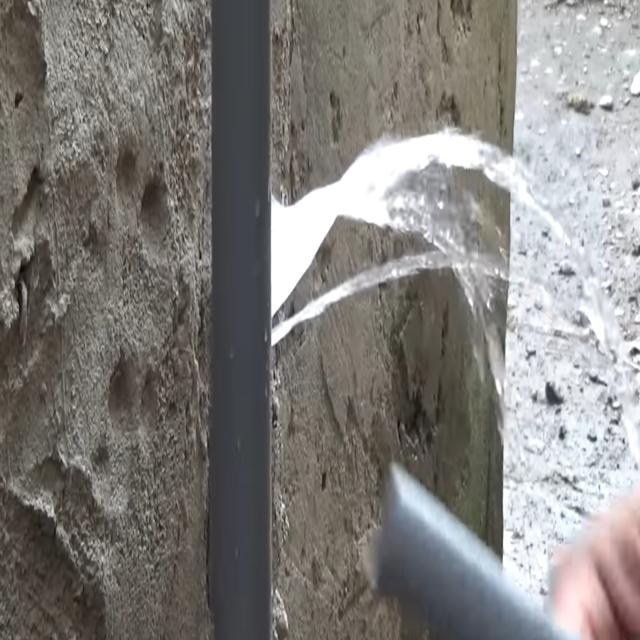leak: (271, 129, 564, 344)
